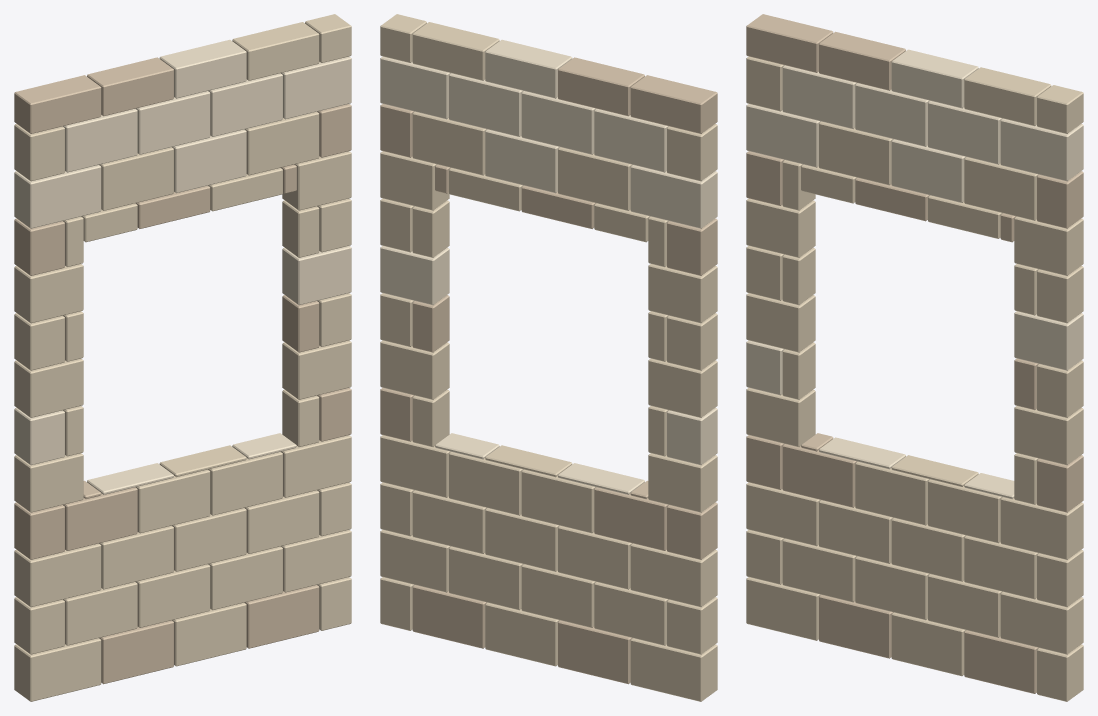
File: wall_window.glb
The picture shows the model from 3 angles, left to right: view 1: azimuth 30°, elevation 25°; view 2: azimuth 150°, elevation 25°; view 3: azimuth 330°, elevation 25°; orthographic projection.
Parts seen in each view (by area): view 1: wall_window__body__plaster, wall_window__body__plaster2, wall_window__body__plaster3; view 2: wall_window__body__plaster, wall_window__body__plaster2, wall_window__body__plaster3; view 3: wall_window__body__plaster, wall_window__body__plaster2, wall_window__body__plaster3.
Part boxes in pixels (bbox=[...]): wall_window__body__plaster: bbox=[14, 14, 351, 701]; wall_window__body__plaster2: bbox=[14, 39, 351, 494]; wall_window__body__plaster3: bbox=[14, 57, 351, 684]; wall_window__body__plaster: bbox=[380, 14, 717, 701]; wall_window__body__plaster2: bbox=[380, 39, 717, 494]; wall_window__body__plaster3: bbox=[380, 57, 717, 684]; wall_window__body__plaster: bbox=[746, 56, 1083, 701]; wall_window__body__plaster2: bbox=[746, 49, 1083, 498]; wall_window__body__plaster3: bbox=[746, 14, 1083, 693].
Size of the model in its own units: 1.99 by 3.54 by 0.18.
